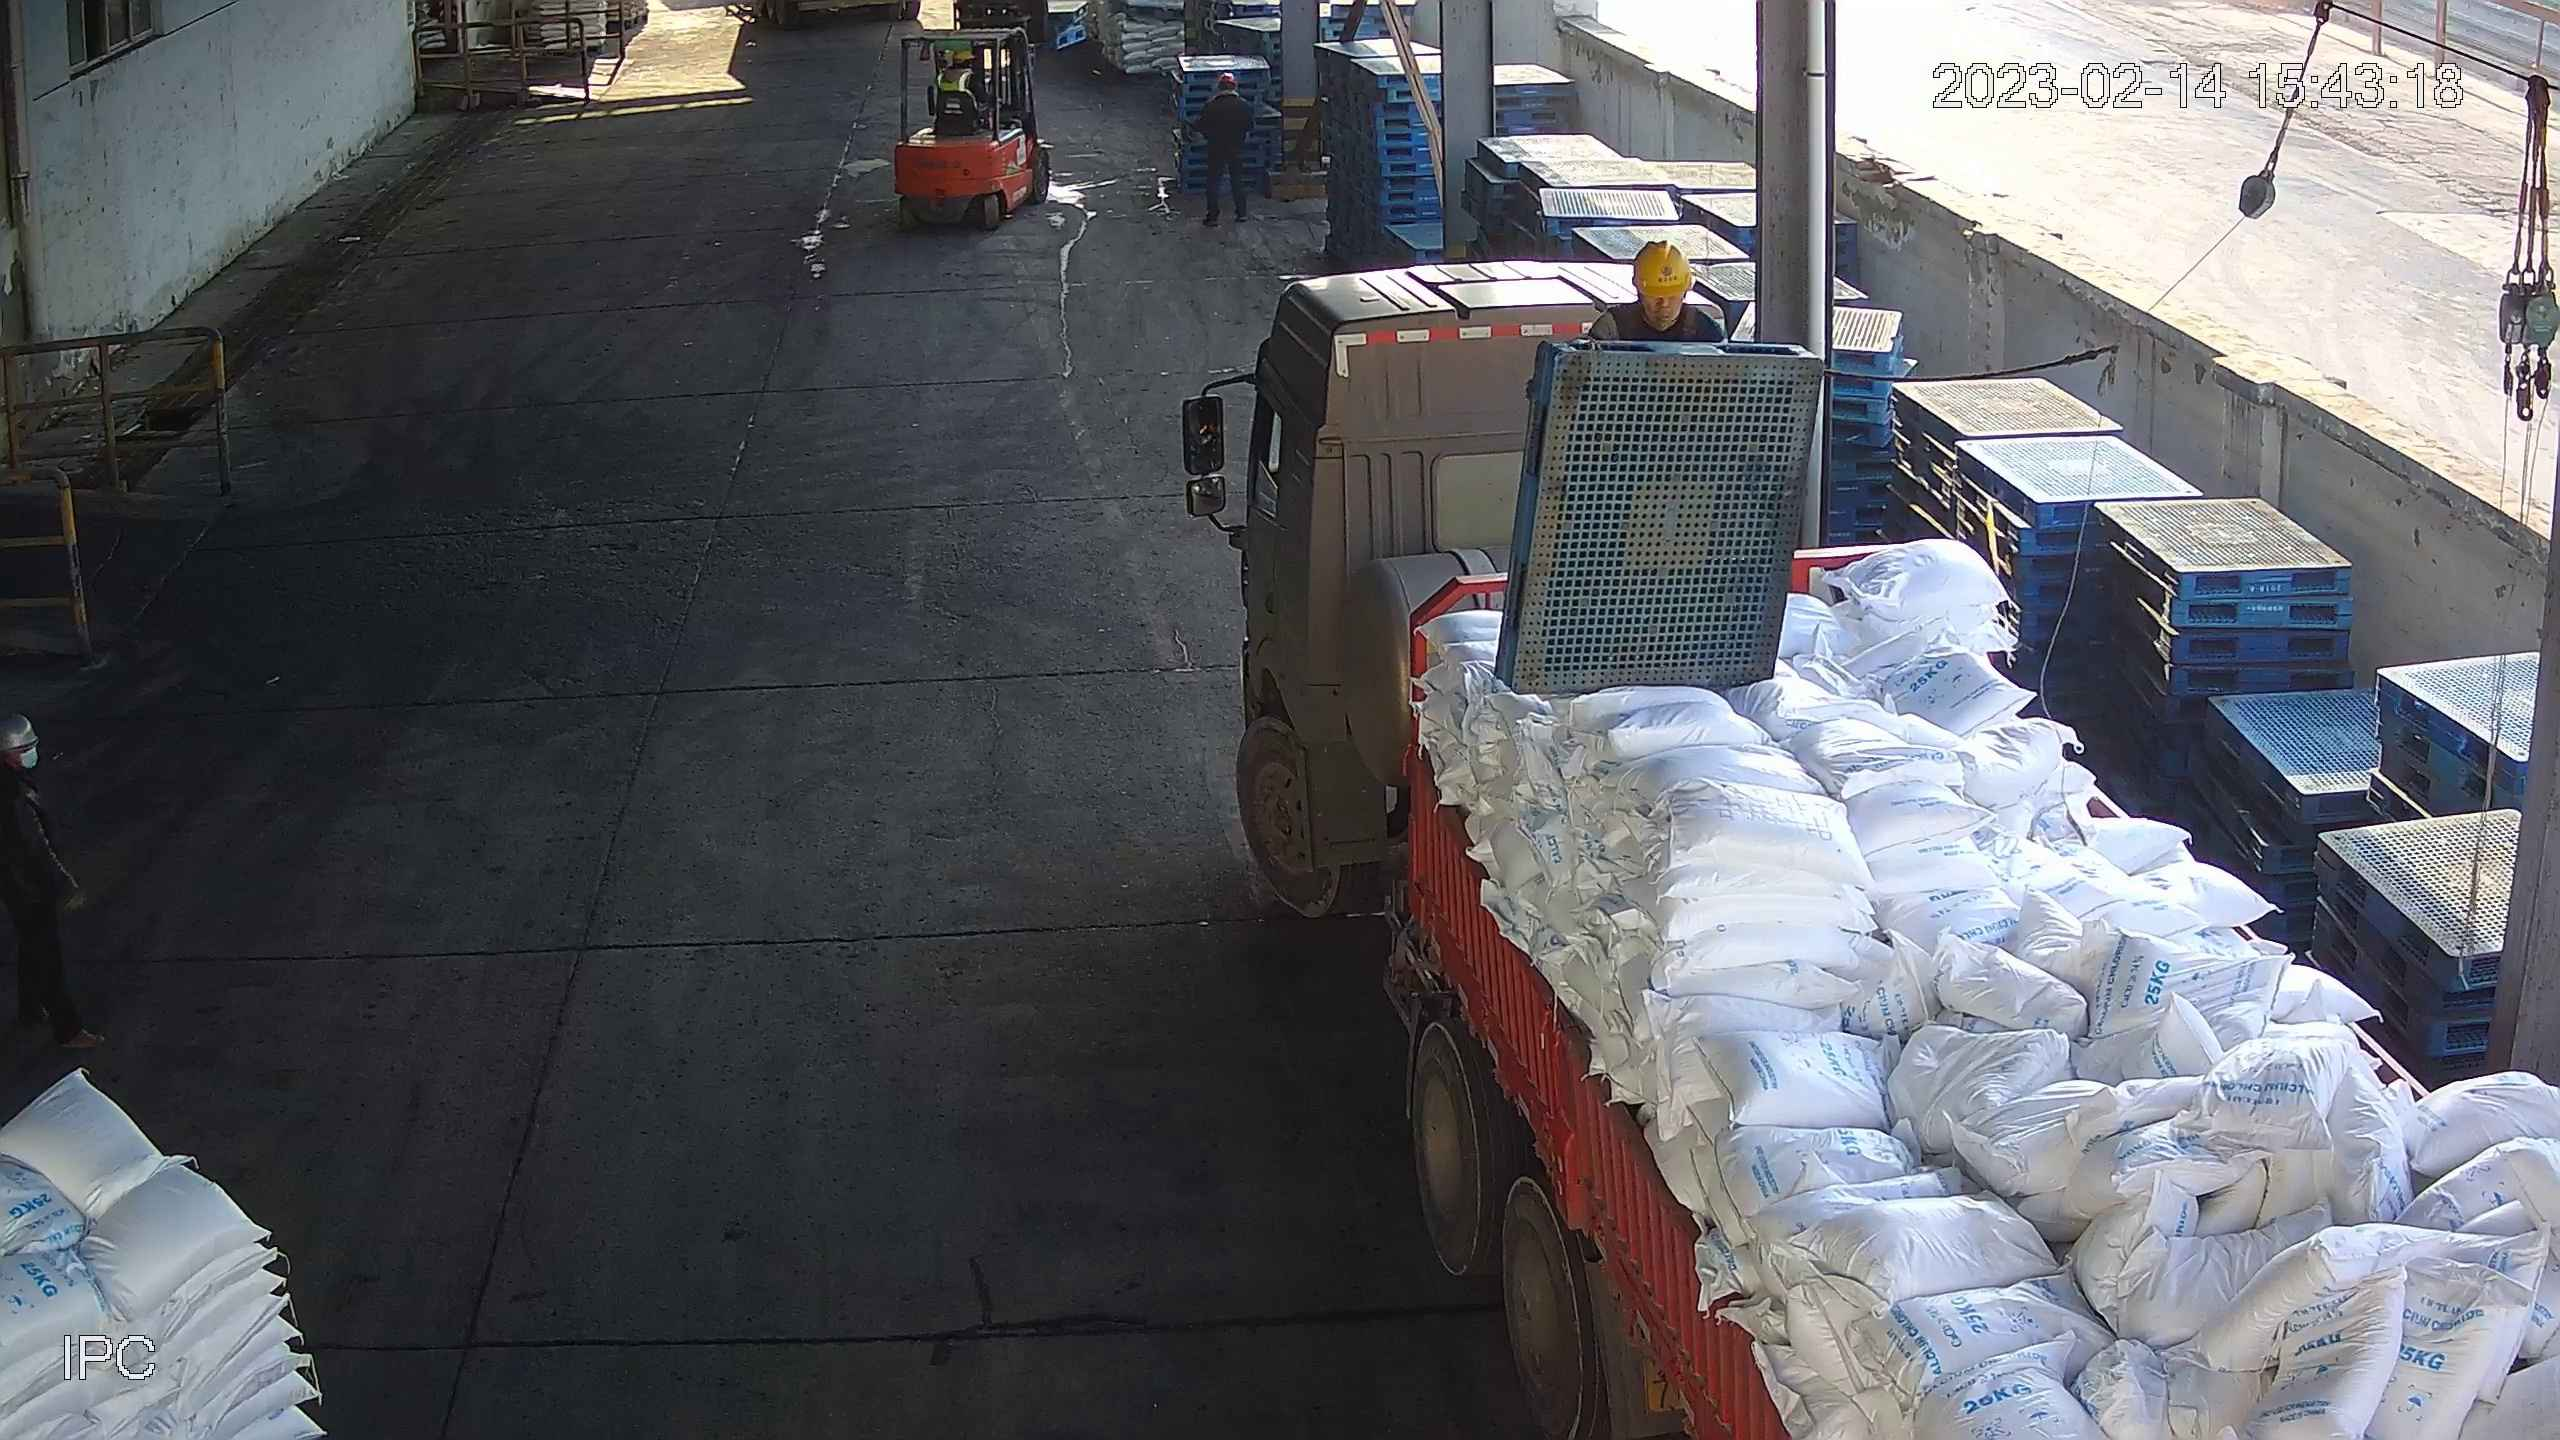belt: (1621, 311, 1707, 348)
head: (1606, 243, 1727, 351), (937, 48, 988, 95), (1200, 62, 1244, 111)
helmet: (1635, 241, 1692, 297), (949, 44, 977, 65), (1214, 71, 1235, 88)
people: (1193, 65, 1255, 232)
truck: (1170, 241, 2560, 1440)
